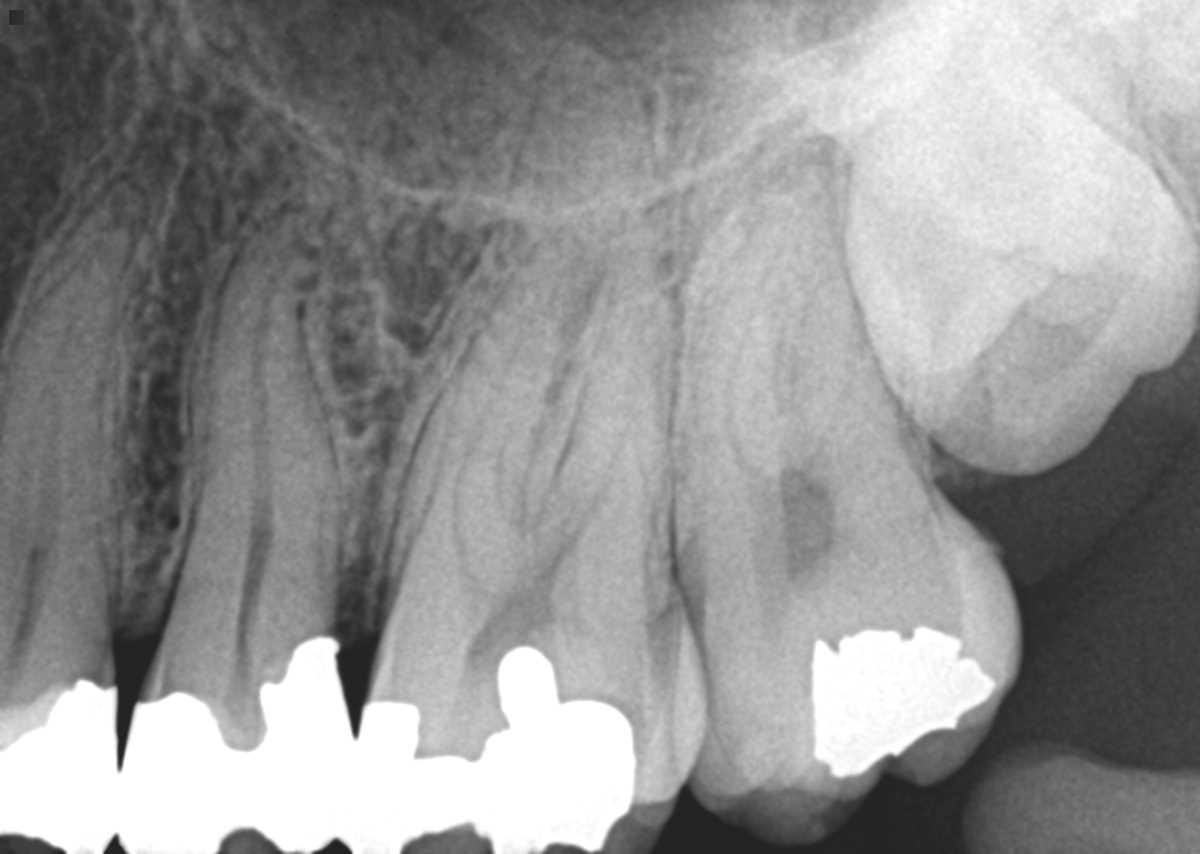Distal Canal: (549, 423, 627, 579), (801, 355, 858, 474)
Distal Root: (530, 282, 673, 586), (782, 219, 925, 519)
Main Canal: (239, 237, 317, 622), (14, 310, 85, 628)
Main Root: (161, 207, 341, 627), (0, 176, 146, 635)
Mesial Canal: (723, 232, 792, 492), (451, 423, 481, 585)
Mesial Root: (399, 225, 601, 551), (663, 176, 838, 534)
Palatal Root: (370, 42, 681, 591), (674, 54, 925, 578)
